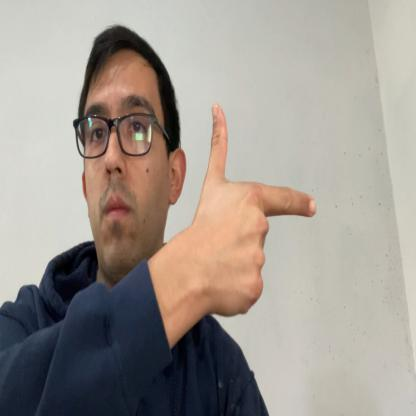G: (198, 103, 317, 318)
